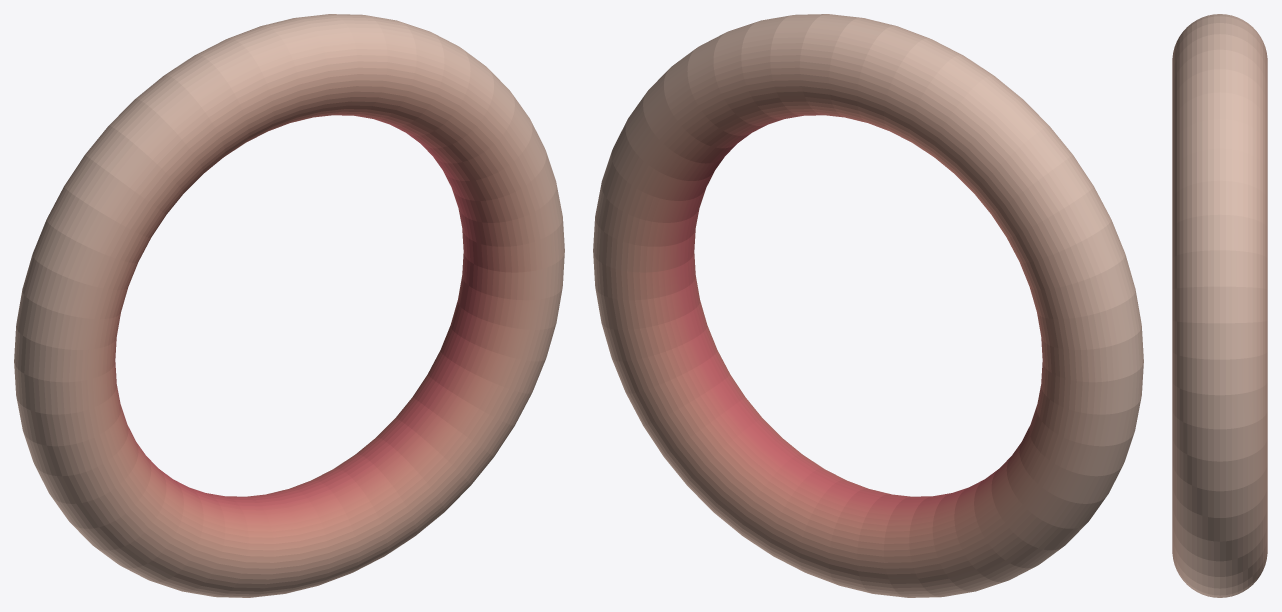
3 renders of one model, left to right at view 1: azimuth 30°, elevation 25°; view 2: azimuth 150°, elevation 25°; view 3: azimuth 270°, elevation 25°, orthographic. The views are drawn at different scales.
Parts seen in each view (by area): view 1: world; view 2: world; view 3: world.
Boxes of the visible parts, left/top/right/bottom form: world: left=14, top=14, right=564, bottom=597; world: left=593, top=14, right=1143, bottom=597; world: left=1172, top=14, right=1267, bottom=597.
Bounding box in the file's own units: 33.47 × 33.4 × 5.46.
